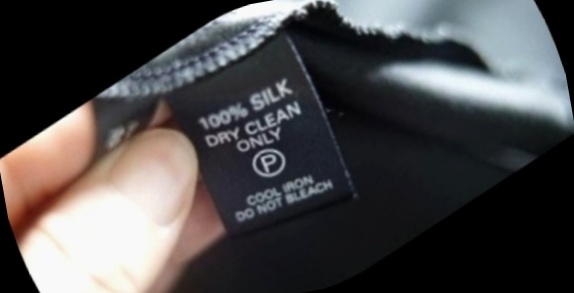dry_clean_any_solvent_except_trichloroethylene: (239, 132, 300, 191)
